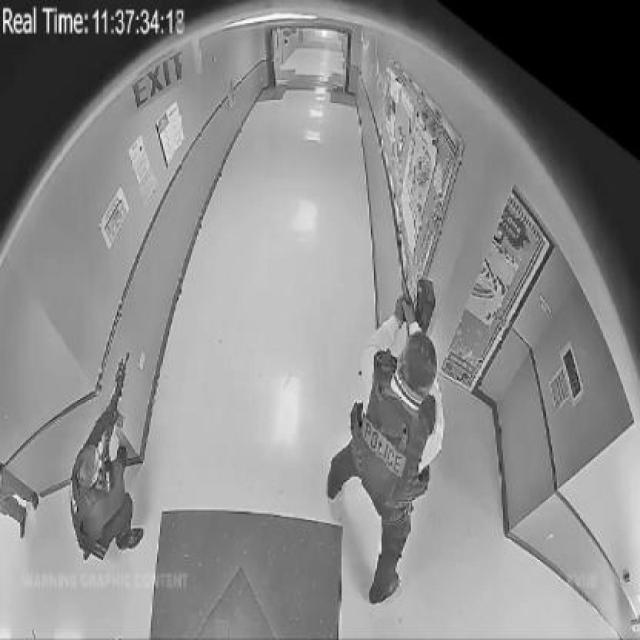weapon: (96, 351, 132, 493), (398, 278, 414, 324)
